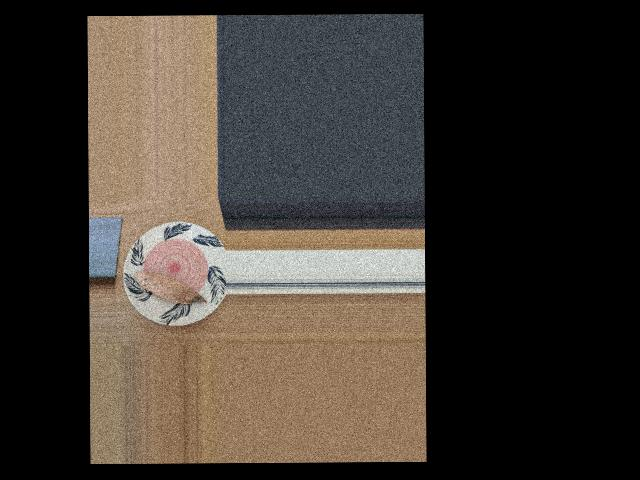sweet_potato: (139, 268, 199, 304)
